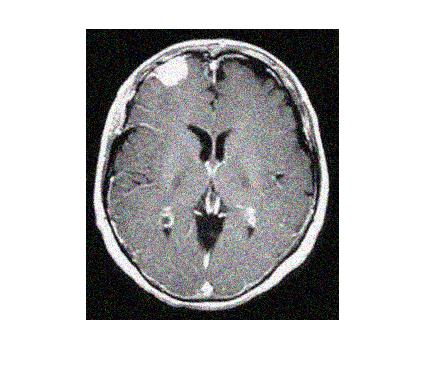Brain_Cancer: (154, 54, 189, 86)
